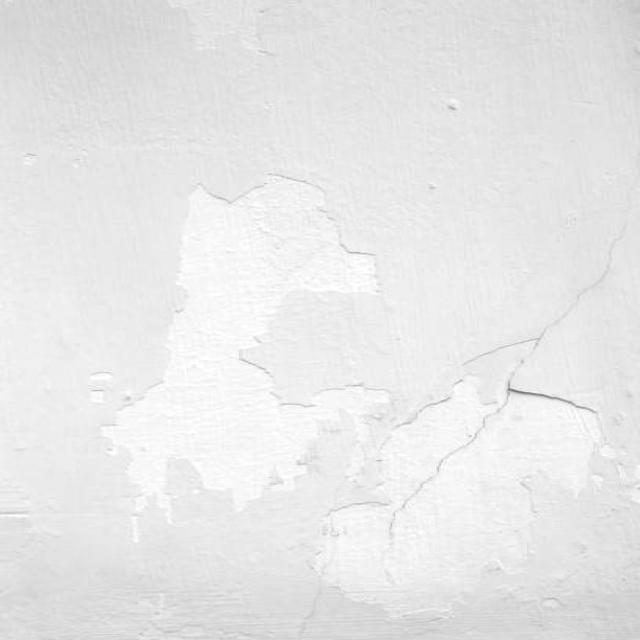peeling paint: (0, 145, 640, 640), (124, 0, 305, 74)
